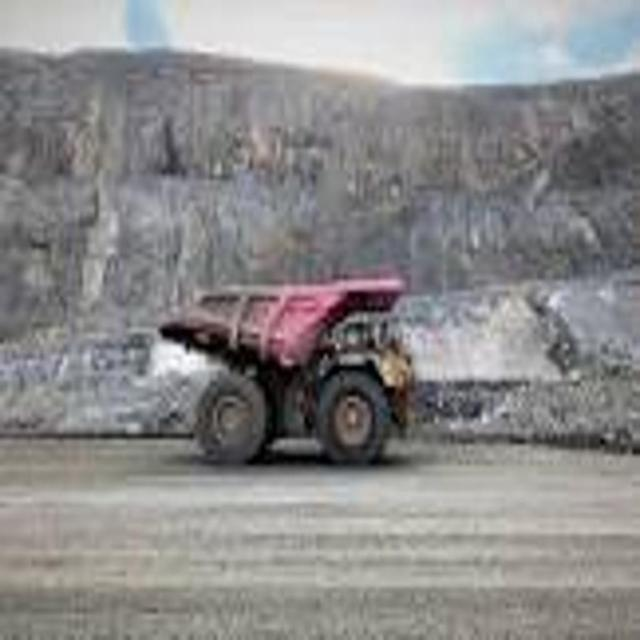dump_truck: (158, 257, 428, 484)
